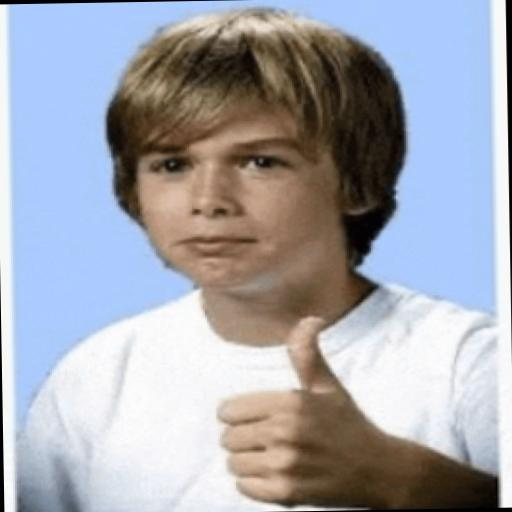Thumbs_Up: (184, 304, 418, 510)
